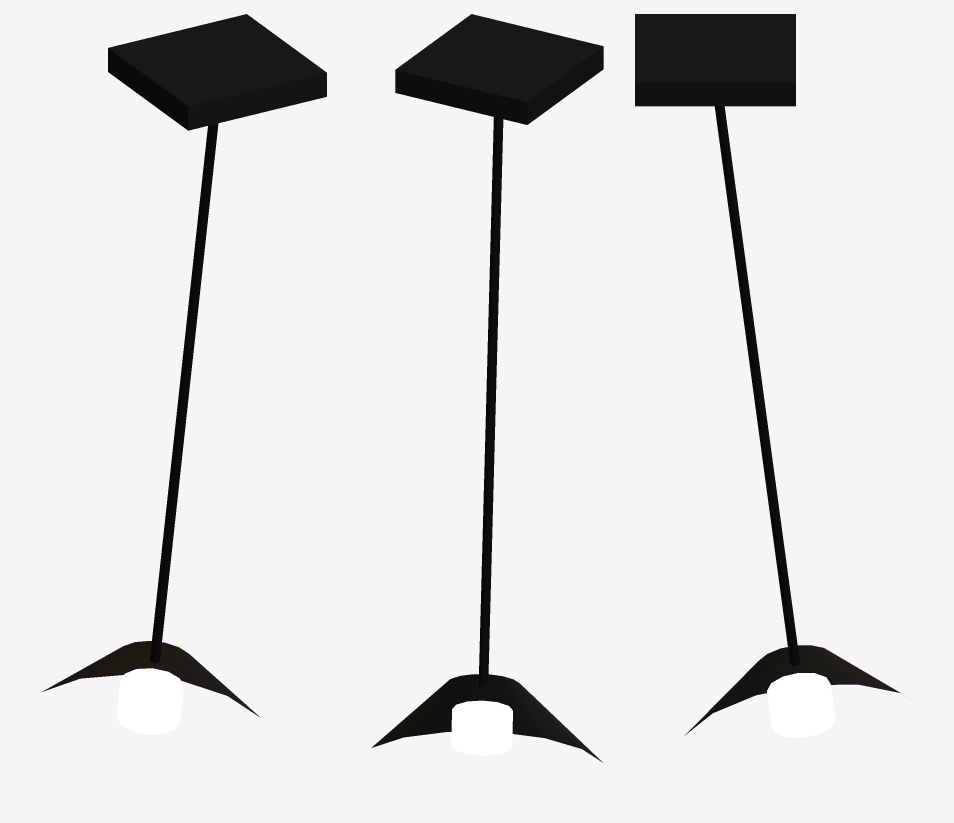
The model's file is hanging_lamp.glb.
The picture shows the model from 3 angles, left to right: view 1: azimuth 30°, elevation 25°; view 2: azimuth 150°, elevation 25°; view 3: azimuth 270°, elevation 25°; orthographic projection. The views are drawn at different scales.
Parts seen in each view (by area): view 1: Mount, Lamp; view 2: Lamp, Mount; view 3: Mount, Lamp.
Boxes of the visible parts, left/top/right/bottom form: Mount: left=108, top=14, right=326, bottom=130; Lamp: left=42, top=123, right=259, bottom=734; Lamp: left=371, top=117, right=602, bottom=762; Mount: left=395, top=14, right=603, bottom=124; Mount: left=635, top=14, right=795, bottom=106; Lamp: left=684, top=106, right=900, bottom=737.
Size of the model in its own units: 0.9992 by 2.99 by 1.14.
